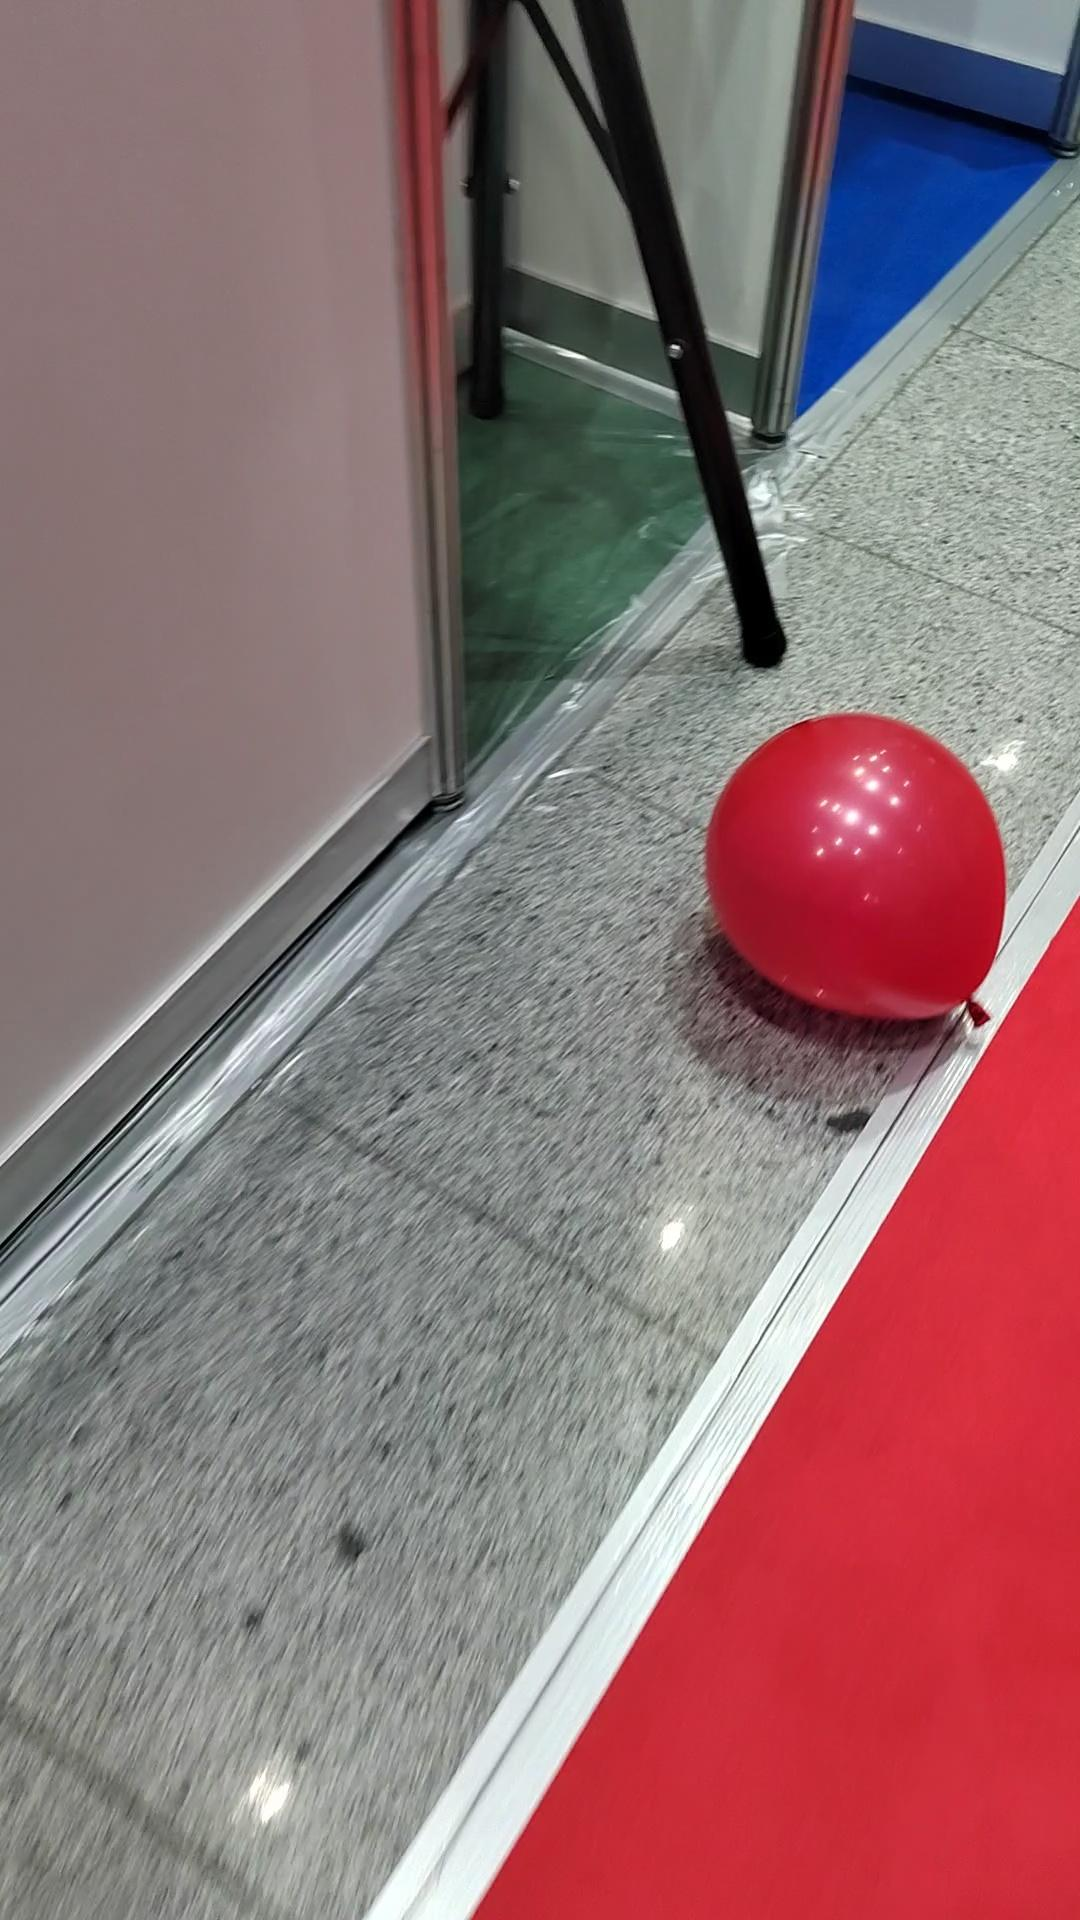red: (700, 698, 1011, 1027)
